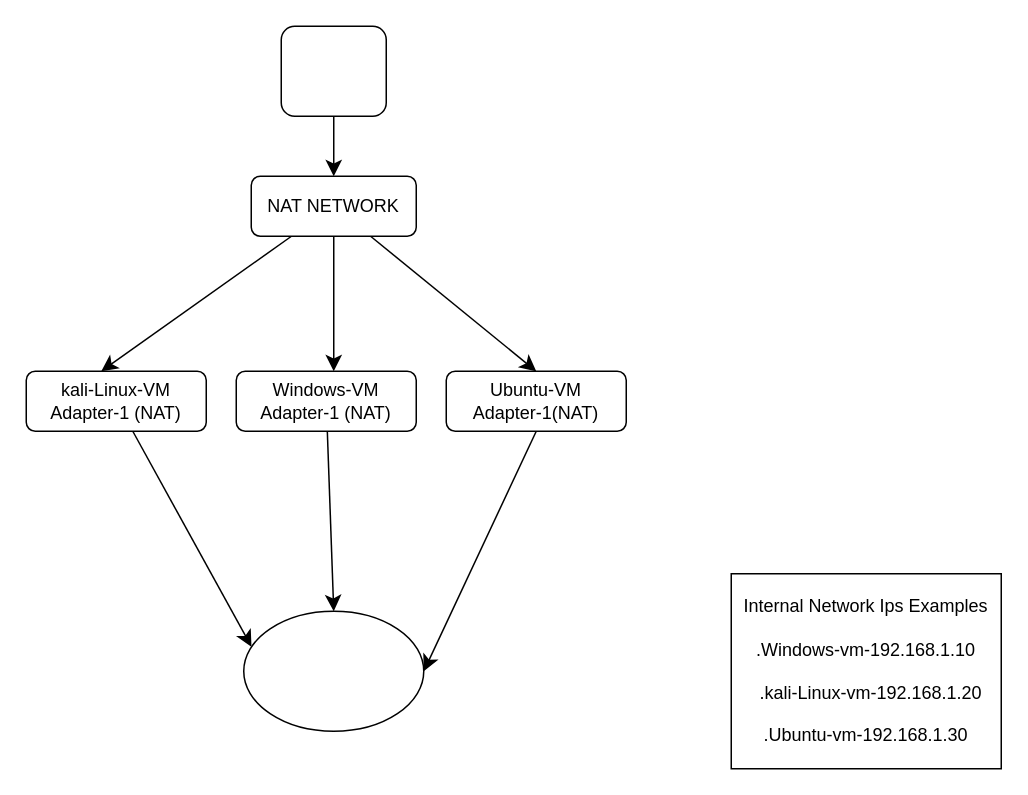
Image size: 1028x795. Some labels were removed from this diagram. Here are the shapes that lost their labels. From the top down, the centre of each, then its label:
the point at 333,70: Internet
the point at 333,670: Adapter-2 internal-Network
